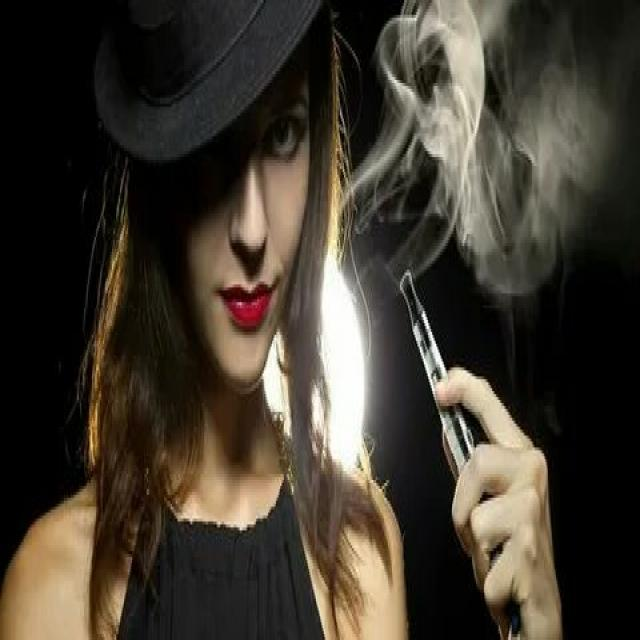cigarette: (397, 260, 525, 640)
